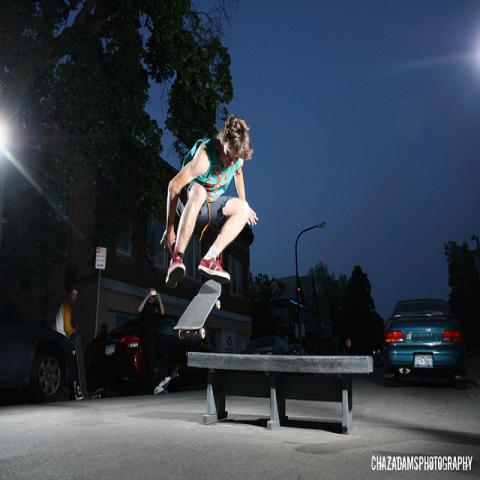car: (86, 313, 218, 392), (0, 297, 74, 399), (382, 300, 466, 389), (240, 336, 294, 355), (288, 342, 308, 356)
